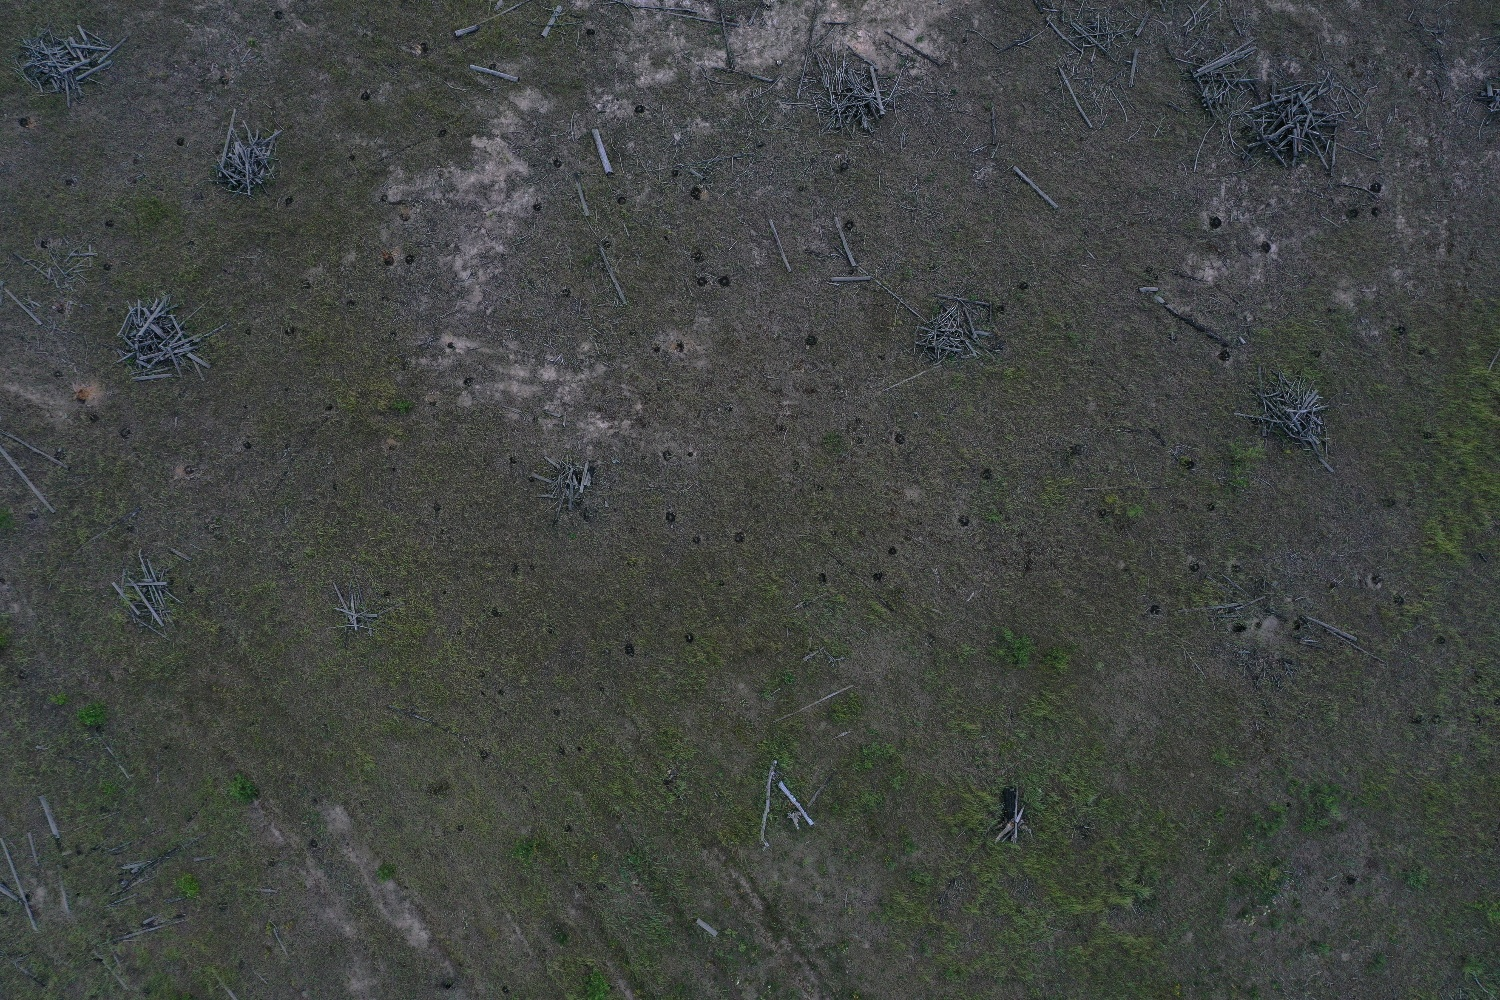branches: (1240, 73, 1362, 177), (17, 25, 131, 108), (116, 299, 214, 382), (807, 51, 887, 135), (1257, 368, 1333, 450), (1191, 38, 1259, 126), (112, 548, 179, 634), (912, 296, 994, 365), (215, 124, 283, 198), (1069, 15, 1132, 61), (546, 459, 597, 511), (331, 594, 379, 632), (1467, 80, 1500, 119)
